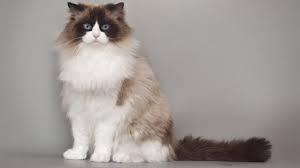ragdoll: (61, 1, 134, 60)
